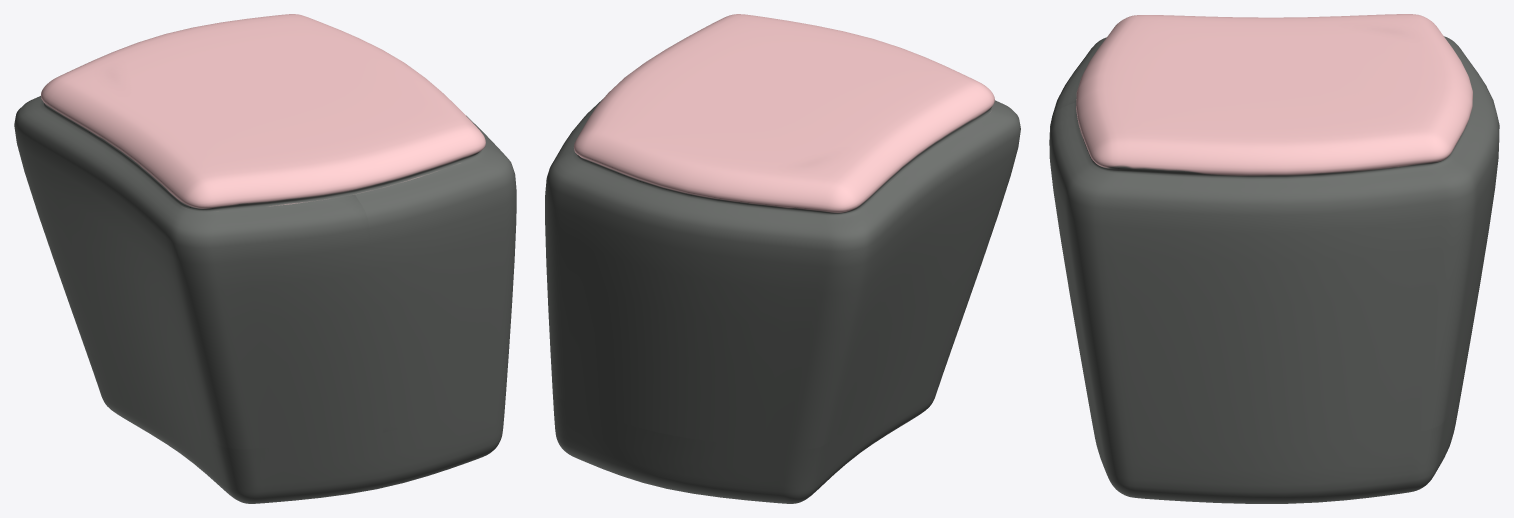
The model's file is Ground3.fbx.
The picture shows the model from 3 angles, left to right: view 1: azimuth 30°, elevation 25°; view 2: azimuth 150°, elevation 25°; view 3: azimuth 270°, elevation 25°; orthographic projection. The views are drawn at different scales.
Parts seen in each view (by area): view 1: Roundcube; view 2: Roundcube; view 3: Roundcube.
Part boxes in pixels (x1,y1,x2,y2): Roundcube: (14,14,516,503); Roundcube: (545,14,1020,503); Roundcube: (1049,14,1499,503).
Size of the model in its own units: 192 by 183 by 213.
1 material, 1 textured.
